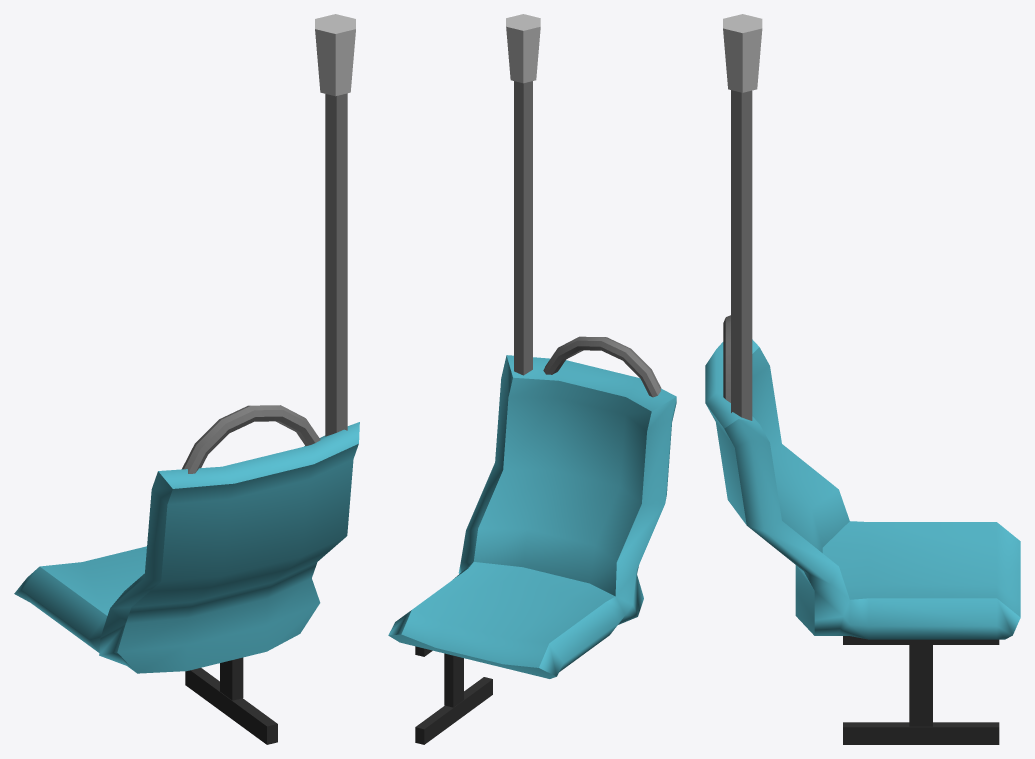
File: BUS ASSETS_SINGLE SEAT.fbx
3 views of the same model, side by side, from view 1: azimuth 30°, elevation 25°; view 2: azimuth 150°, elevation 25°; view 3: azimuth 270°, elevation 25° (orthographic). The views are drawn at different scales.
Visible parts, largest first — view 1: Seat_Mat, pCylinder5, pCylinder7, Rail, pCube4, pCube5; view 2: Seat_Mat, pCylinder5, Rail, pCylinder7, pCube4, pCube5; view 3: Seat_Mat, pCylinder5, pCube4, pCylinder7, pCube5, pCube3, Rail.
Boxes of the visible parts, <box> form: Seat_Mat: <box>14,422,359,673</box>; pCylinder5: <box>325,93,347,436</box>; pCylinder7: <box>315,14,355,96</box>; Rail: <box>182,405,320,473</box>; pCube4: <box>185,668,277,744</box>; pCube5: <box>220,657,243,700</box>; Seat_Mat: <box>388,355,676,678</box>; pCylinder5: <box>514,81,532,375</box>; Rail: <box>543,336,661,397</box>; pCylinder7: <box>506,14,540,83</box>; pCube4: <box>415,677,492,744</box>; pCube5: <box>444,653,463,707</box>; Seat_Mat: <box>705,339,1020,639</box>; pCylinder5: <box>731,90,752,420</box>; pCube4: <box>843,722,999,744</box>; pCylinder7: <box>723,14,762,92</box>; pCube5: <box>909,639,932,726</box>; pCube3: <box>843,636,999,644</box>; Rail: <box>723,315,730,402</box>.
Size of the model in its own units: 10.04 by 34.03 by 13.44.
